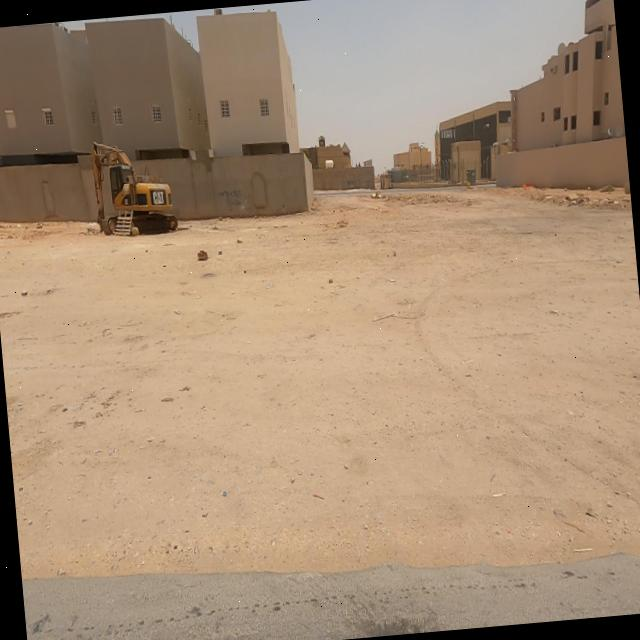Graffiti: (218, 188, 244, 211)
